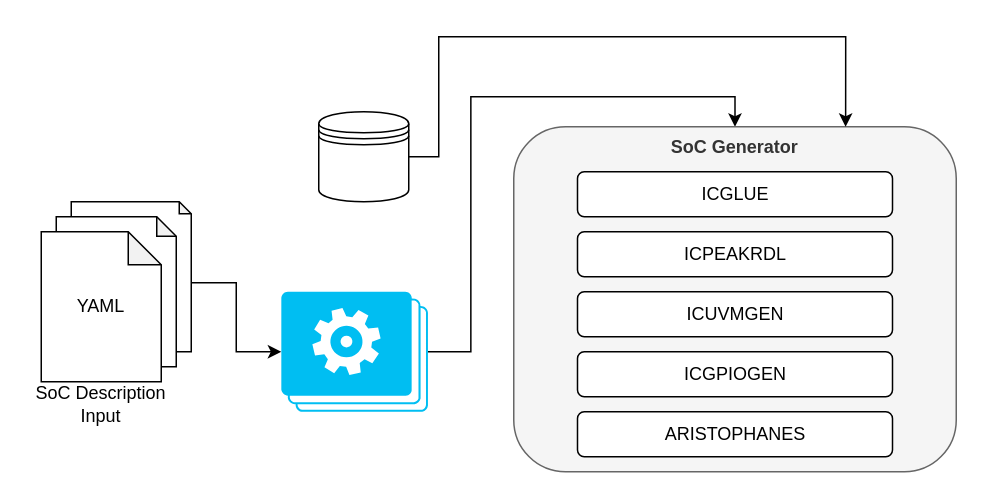
This 983x498 diagram has some shape labels left out. Each missing label, with the centre of its shape:
"IP Store" belongs at (x=363, y=156).
"Python YAML Parser" belongs at (x=353, y=351).
